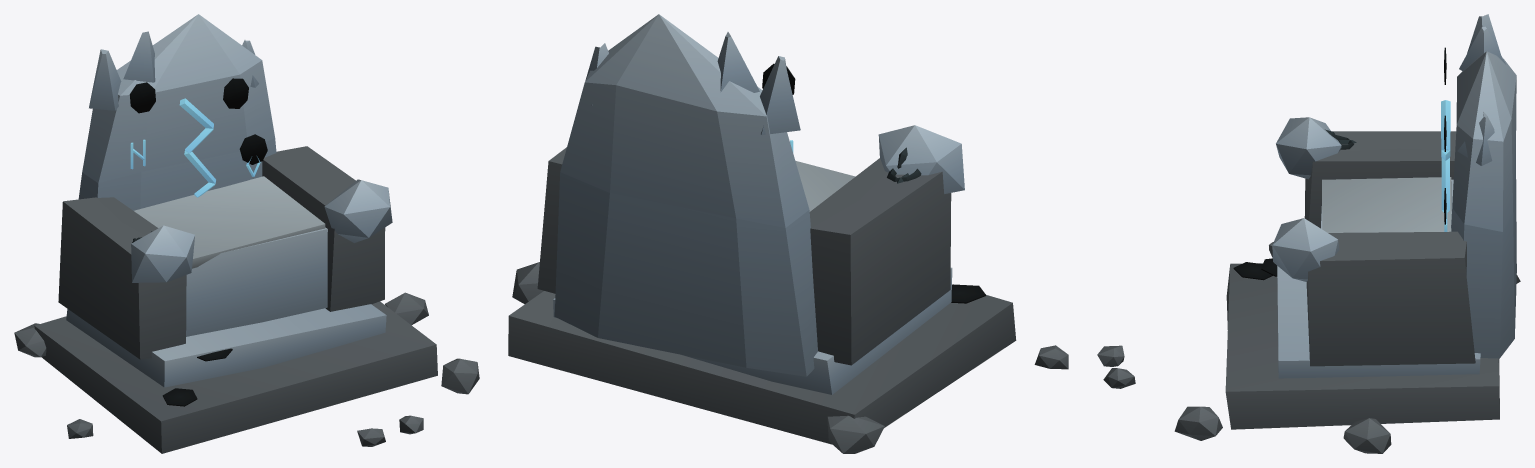
File: titan_throne.glb
3 renders of one model, left to right at view 1: azimuth 30°, elevation 25°; view 2: azimuth 150°, elevation 25°; view 3: azimuth 270°, elevation 25°, orthographic. The views are drawn at different scales.
Parts seen in each view (by area): view 1: titan_throne; view 2: titan_throne; view 3: titan_throne.
Part boxes in pixels (left/top/right/bottom): titan_throne: left=14, top=14, right=479, bottom=453; titan_throne: left=508, top=14, right=1068, bottom=453; titan_throne: left=1097, top=14, right=1520, bottom=453.
Bounding box in the file's own units: 8.96 × 6.69 × 7.86.
Materials: 3 (3 with a texture image).
